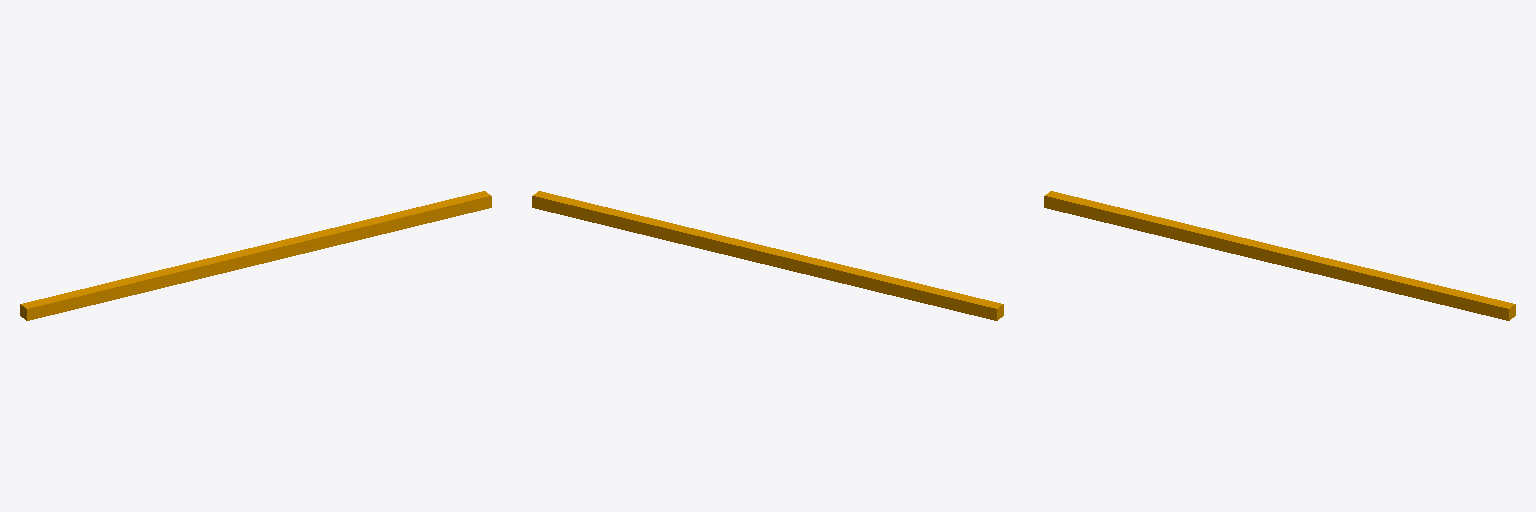
The robot description file, URDF, robot "midLever":
<robot name="midLever">
	<!-- Link 0 -->
	<link name="midLever_0">
		<inertial>
			<mass value="1.0" />
			<inertia ixx="0.1667" ixy="0.0" ixz="0.0" iyy="0.1667" iyz="0.0" izz="0.1667" />
			<origin xyz="0 0 0" />
		</inertial>
		<visual>
			<geometry>
				<box size="2.0 0.05 0.05"/>
			</geometry>
			<origin xyz="1.1 0.0 0.0"/>
		</visual>
		<collision>
			<geometry>
				<box size="2.2 0.04 0.03"/>
			</geometry>
			<origin xyz="1.1 0.0 0.0"/>
		</collision>
	</link>

</robot>

--- Facts derived from the render (not from the file) ---
Views: 3 orthographic renders of the robot side by side, from view 1: azimuth 30°, elevation 25°; view 2: azimuth 150°, elevation 25°; view 3: azimuth 330°, elevation 25°.
Model midLever with 1 links and 0 joints (none), rooted at midLever_0, posed every joint at zero.
Visible links, largest first — view 1: midLever_0; view 2: midLever_0; view 3: midLever_0.
Boxes of the visible links, x1=… form: midLever_0: x1=20, y1=191, x2=491, y2=320; midLever_0: x1=532, y1=191, x2=1003, y2=320; midLever_0: x1=1044, y1=191, x2=1515, y2=320.
Size in the robot's own frame: 2 by 0.05 by 0.05 metres.
Geometry: primitives only (box / cylinder / sphere), no mesh files.
